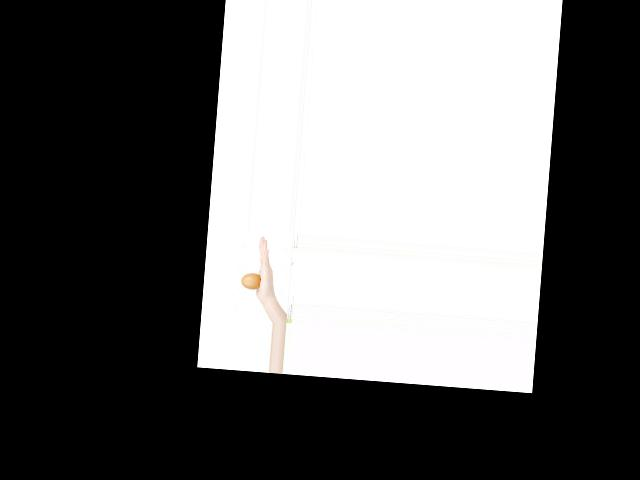egg: (241, 272, 261, 289)
